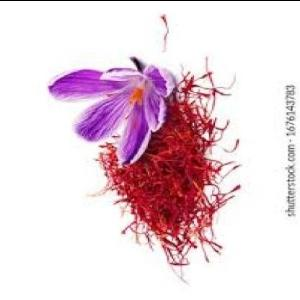Saffron: (45, 54, 174, 166)
